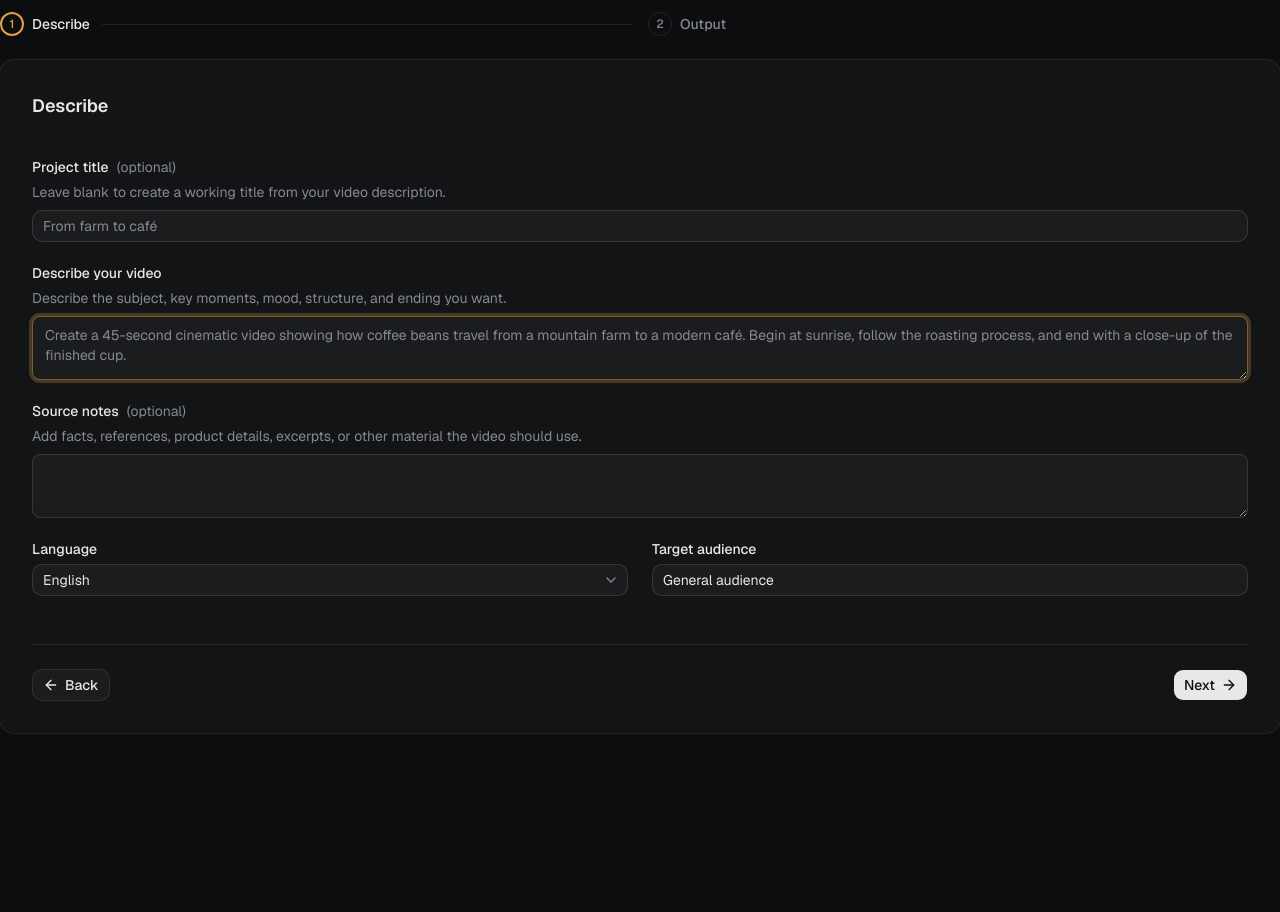
Test case: CustomVideoWizard › has Describe and Output steps and requires a description
Check: the number of list items is 2, box left=0, top=12, right=90, bottom=36; left=648, top=12, right=726, bottom=36
Check: the heading "Describe" is shown, box left=32, top=94, right=108, bottom=117
What coordinates should you click on to do the following:
click the button "Next"
I would click on:
 (1210, 685)
Its box is left=1173, top=669, right=1248, bottom=701.
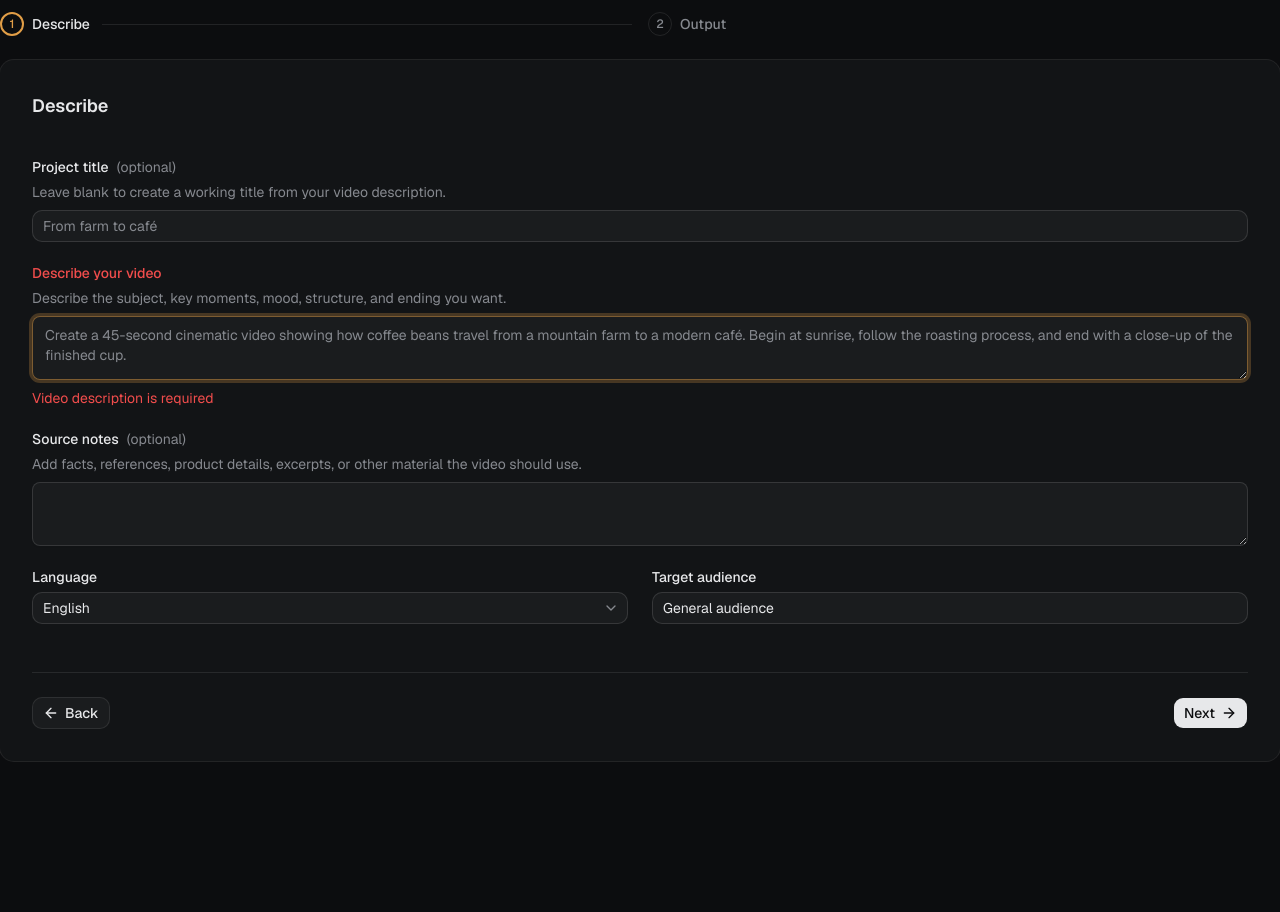
Check: the text "Video description is required" is shown, box left=32, top=389, right=214, bottom=407
